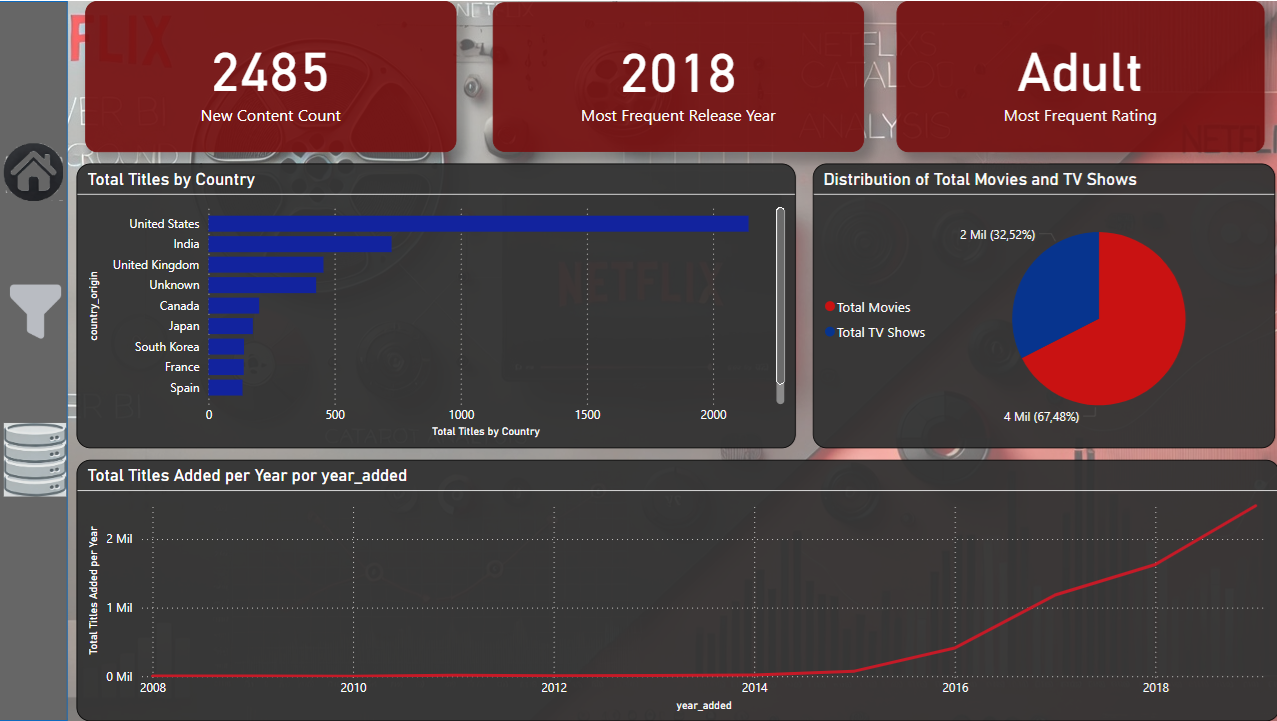

The dashboard page shown, as its layout file describes it:
{"tool":"powerbi","page":{"name":"Dashboard","canvas":[1280,720],"ordinal":0},"visuals":[{"type":"pieChart","title":"Distribution of Total Movies and TV Shows","fields":{"Y":["netflix_processado.Total Movies","netflix_processado.Total TV Shows"]},"box":[814.4,162.9,462.1,284.7],"z":0},{"type":"card","fields":{"Values":["netflix_processado.New Content Count"]},"box":[85.7,0,371.6,150.8],"z":1000},{"type":"card","fields":{"Values":["netflix_processado.Average Release Year"]},"box":[493.4,1.2,371.6,149.6],"z":2000},{"type":"card","fields":{"Values":["netflix_processado.Most Frequent Rating"]},"box":[897.6,0,368,150.8],"z":3000},{"type":"clusteredBarChart","title":"Total Titles by Country ","fields":{"Category":["netflix_processado.country_origin"],"Y":["netflix_processado.Total Titles by Country"]},"box":[77.2,162.9,719,284.7],"z":4000},{"type":"lineChart","fields":{"Category":["netflix_processado.year_added"],"Y":["netflix_processado.Total Titles Added per Year"]},"box":[77.2,458.4,1202.8,261.8],"z":5000},{"type":"shape","box":[0,0,68.8,720.2],"z":7000},{"type":"image","box":[3.6,278.7,66.3,63.9],"z":8000},{"type":"image","box":[0,398.1,72.4,120.6],"z":9000},{"type":"image","box":[0,108.6,68.8,125.5],"z":10000},{"type":"actionButton","box":[0,261.8,66.3,98.9],"z":12000},{"type":"actionButton","box":[0,390.9,74.8,113.4],"z":14000}]}

Visuals, with their boxes on the page's 1280x720 design canvas (x1, y1, x2, y2). These are canvas units, not pixel positions in the 1277x721 screenshot, which may show the page scaled, cropped or inside an application window:
"Distribution of Total Movies and TV Shows" pieChart: BBox(814, 163, 1276, 448)
card - netflix_processado.New Content Count: BBox(86, 0, 457, 151)
card - netflix_processado.Average Release Year: BBox(493, 1, 865, 151)
card - netflix_processado.Most Frequent Rating: BBox(898, 0, 1266, 151)
"Total Titles by Country " clusteredBarChart: BBox(77, 163, 796, 448)
lineChart - netflix_processado.year_added x netflix_processado.Total Titles Added per Year: BBox(77, 458, 1280, 720)
shape: BBox(0, 0, 69, 720)
image: BBox(4, 279, 70, 343)
image: BBox(0, 398, 72, 519)
image: BBox(0, 109, 69, 234)
actionButton: BBox(0, 262, 66, 361)
actionButton: BBox(0, 391, 75, 504)
